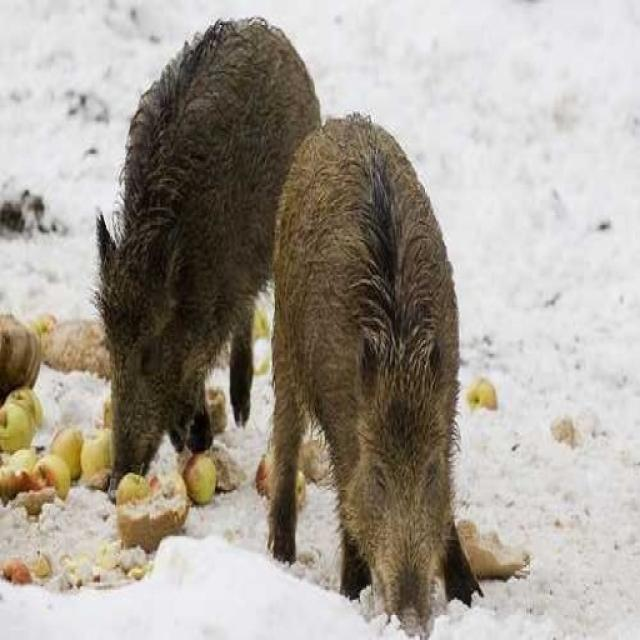pig: (236, 82, 477, 640), (81, 0, 290, 525)
